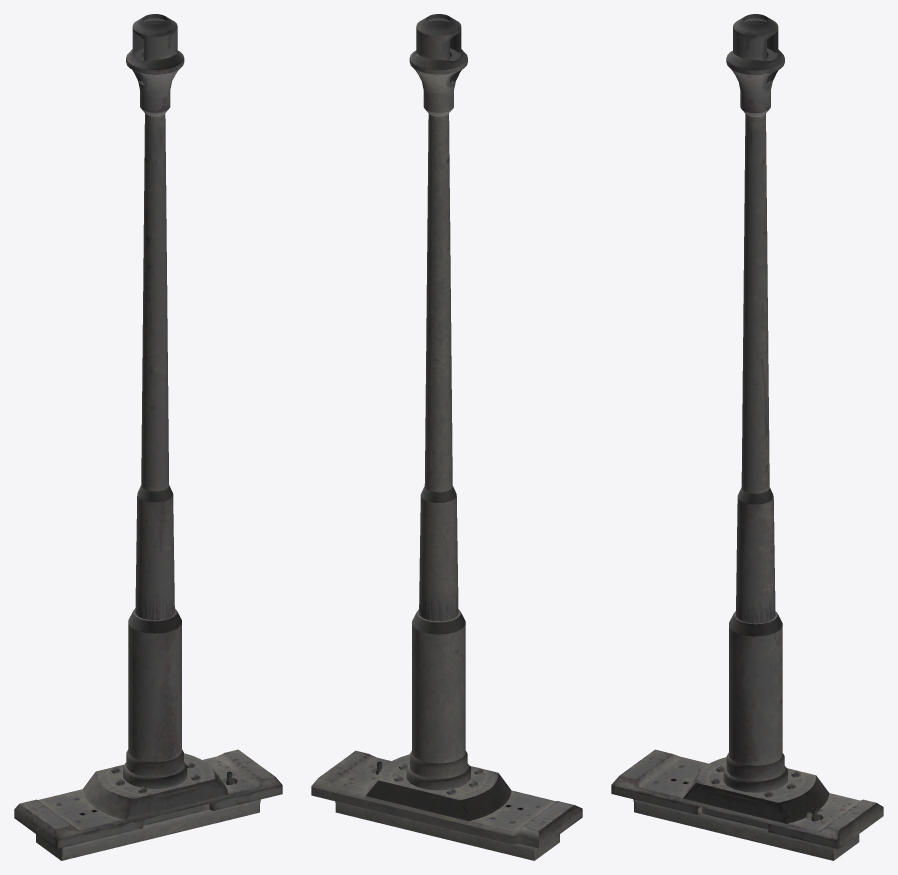
The model's file is Gun_08.glb.
The picture shows the model from 3 angles, left to right: view 1: azimuth 30°, elevation 25°; view 2: azimuth 150°, elevation 25°; view 3: azimuth 330°, elevation 25°; orthographic projection.
Parts seen in each view (by area): view 1: set_0_group_0; view 2: set_0_group_0; view 3: set_0_group_0.
Boxes of the visible parts, x1,y1,x2,y2 form: set_0_group_0: (14,14,282,860); set_0_group_0: (311,14,582,860); set_0_group_0: (611,14,883,860).
Size of the model in its own units: 1.6 by 5.44 by 0.5606.
1 material, 1 textured.
